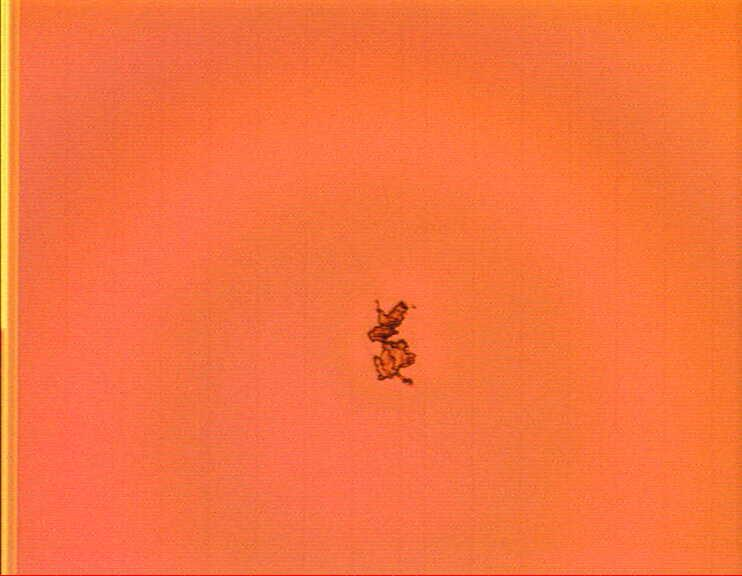PIQ PARTICLE: (367, 298, 419, 387)
